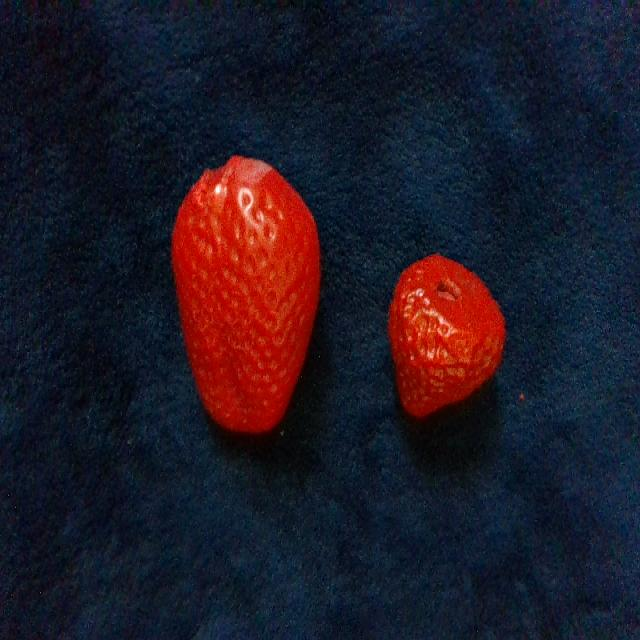chica_roja: (389, 255, 505, 416)
grande_roja: (172, 156, 319, 432)
